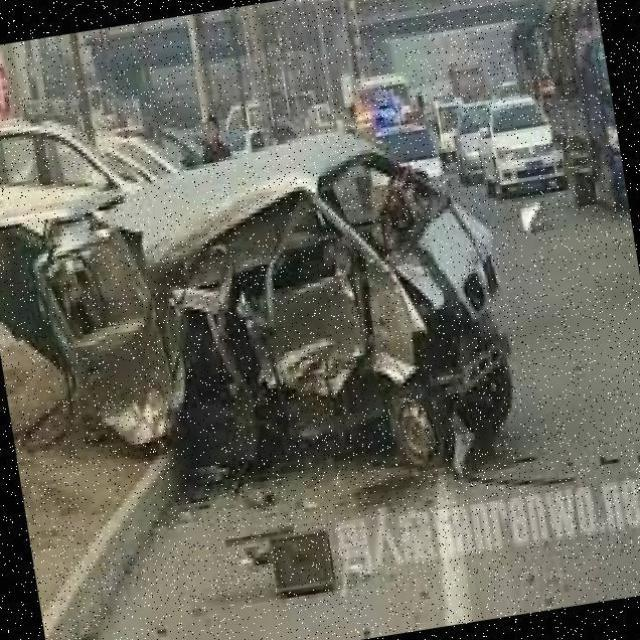accident: (0, 119, 539, 534)
